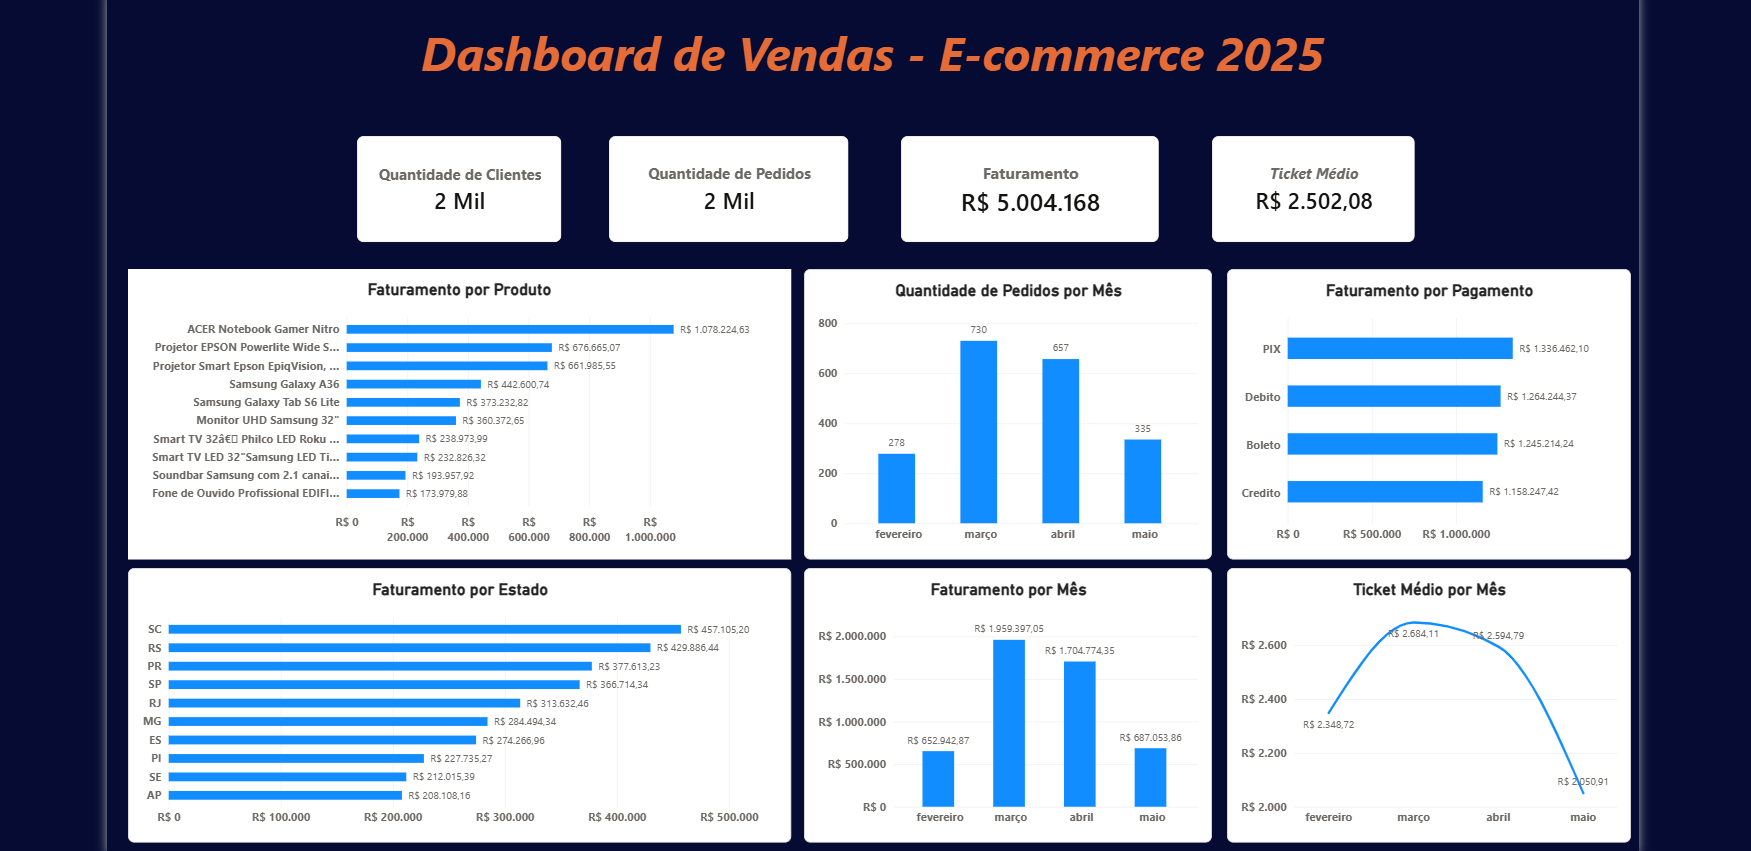

This screenshot's page, from the dashboard's own definition file:
{"tool":"powerbi","page":{"name":"Visão Geral de Vendas ","canvas":[1920,1080],"ordinal":0},"visuals":[{"type":"cardVisual","fields":{"Data":["DIM_Customer1.quantidade de cliente"]},"box":[313.1,179.8,256.2,133.3],"z":0},{"type":"cardVisual","fields":{"Data":["DIM_Customer1.quantidade de pedidos"]},"box":[628.8,179.8,300.2,133.3],"z":1000},{"type":"cardVisual","fields":{"Data":["DIM_Customer1.ticket medio"]},"box":[1384.4,179.8,254.9,133.3],"z":2000},{"type":"cardVisual","fields":{"Data":["FACT_Orders5.faturamento"]},"box":[994.9,179.8,323.5,133.3],"z":3000},{"type":"columnChart","title":"Faturamento por Mês","fields":{"Category":["FACT_Orders5.Order_Date.Variation.Hierarquia de datas.Mês"],"Y":["FACT_Orders5.faturamento"]},"box":[873.3,721.9,511.1,344.2],"z":4000},{"type":"columnChart","title":"Quantidade de Pedidos por Mês","fields":{"Y":["DIM_Customer1.quantidade de pedidos"],"Category":["FACT_Orders5.Order_Date.Variation.Hierarquia de datas.Mês"]},"box":[873.3,346.7,511.1,363.6],"z":5000},{"type":"barChart","title":"Faturamento por Produto","fields":{"Y":["FACT_Orders5.faturamento"],"Category":["DIM_Products3.Product_Name"]},"box":[25.9,346.7,830.6,363.6],"z":6000},{"type":"barChart","title":"Faturamento por Estado","fields":{"Category":["DIM_Customer1.State"],"Y":["FACT_Orders5.faturamento"]},"box":[25.9,721.9,830.6,344.2],"z":7000},{"type":"textbox","box":[355.8,36.2,1207.1,115.1],"z":8000},{"type":"barChart","title":"Faturamento por Pagamento","fields":{"Category":["FACT_Orders5.Payment"],"Y":["FACT_Orders5.faturamento"]},"box":[1403.8,346.7,505.9,363.6],"z":9000},{"type":"lineChart","title":"Ticket Médio por Mês","fields":{"Y":["DIM_Customer1.ticket medio"],"Category":["FACT_Orders5.Order_Date.Variation.Hierarquia de datas.Mês"]},"box":[1403.8,721.9,505.9,344.2],"z":10000}]}

Visuals, with their boxes in screenshot pixels (x1, y1, x2, y2):
cardVisual - DIM_Customer1.quantidade de cliente: (344, 127, 551, 235)
cardVisual - DIM_Customer1.quantidade de pedidos: (599, 127, 841, 235)
cardVisual - DIM_Customer1.ticket medio: (1209, 127, 1415, 235)
cardVisual - FACT_Orders5.faturamento: (894, 127, 1155, 235)
"Faturamento por Mês" columnChart: (796, 565, 1209, 842)
"Quantidade de Pedidos por Mês" columnChart: (796, 262, 1209, 555)
"Faturamento por Produto" barChart: (112, 262, 783, 555)
"Faturamento por Estado" barChart: (112, 565, 783, 842)
textbox: (378, 11, 1353, 104)
"Faturamento por Pagamento" barChart: (1224, 262, 1633, 555)
"Ticket Médio por Mês" lineChart: (1224, 565, 1633, 842)
